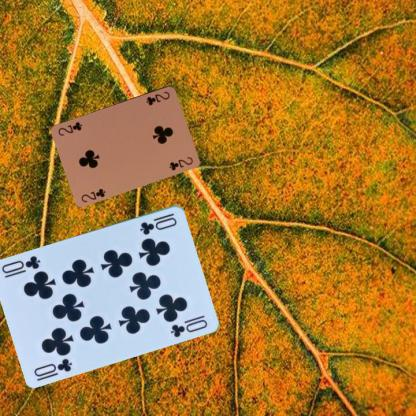10c: (31, 355, 74, 378), (137, 214, 178, 236)
2c: (78, 186, 107, 204), (143, 88, 171, 106)
